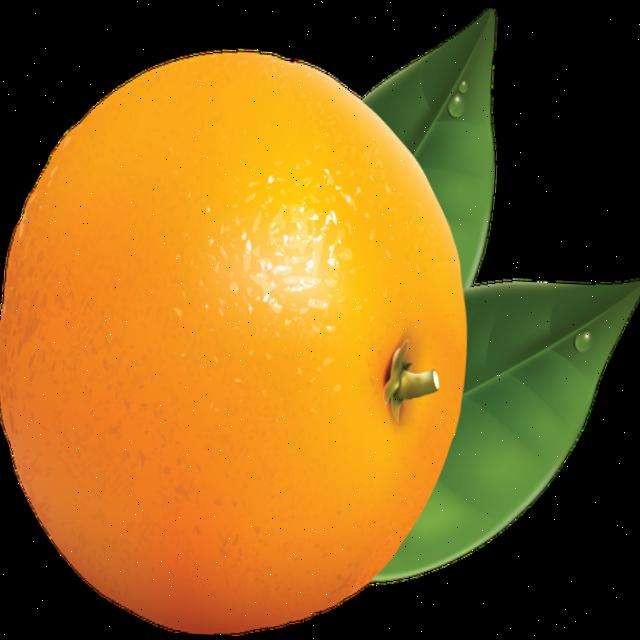Jeruk: (0, 36, 484, 640)
